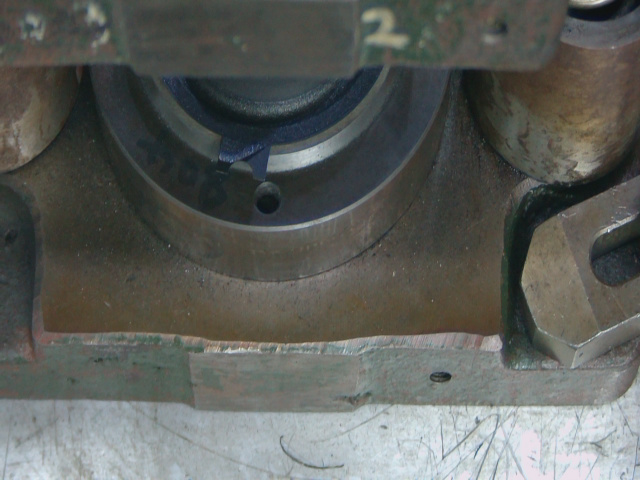NG: (213, 136, 284, 189)
